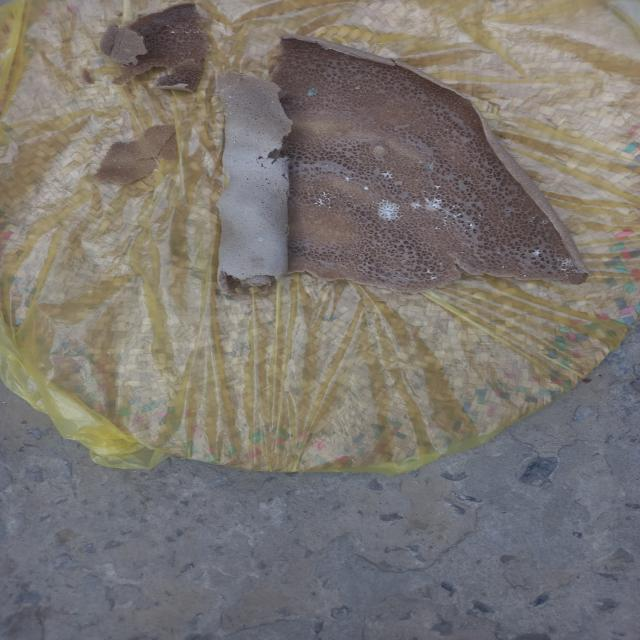injera_mold: (375, 198, 401, 222), (410, 194, 441, 214), (310, 190, 332, 210), (560, 258, 578, 276), (530, 245, 543, 260), (380, 168, 396, 180), (304, 85, 317, 97), (466, 219, 477, 230), (439, 216, 450, 226), (529, 215, 536, 228), (426, 162, 436, 171), (452, 203, 462, 210), (257, 236, 265, 244), (342, 176, 352, 182), (452, 212, 462, 218), (541, 218, 549, 225), (354, 85, 362, 91), (422, 191, 433, 195), (429, 276, 436, 282), (226, 102, 232, 109), (434, 184, 442, 189), (561, 276, 571, 280), (477, 213, 483, 219), (221, 87, 225, 95), (501, 265, 509, 269), (299, 241, 304, 247), (369, 205, 374, 211), (496, 250, 502, 255), (345, 200, 351, 205), (460, 217, 465, 223), (470, 210, 476, 215), (364, 185, 368, 192), (424, 269, 432, 272), (522, 274, 528, 278), (439, 261, 444, 265), (225, 113, 235, 115), (363, 90, 368, 94), (435, 227, 441, 230), (228, 95, 232, 99), (348, 194, 352, 198), (229, 85, 233, 89), (550, 259, 554, 263), (346, 233, 350, 237), (460, 251, 464, 254), (364, 203, 368, 206), (358, 222, 362, 225), (372, 201, 376, 204), (359, 93, 362, 97), (376, 242, 379, 246), (442, 209, 444, 214), (333, 196, 338, 198), (307, 193, 310, 196), (325, 177, 328, 180), (326, 164, 328, 166), (234, 142, 236, 143)
